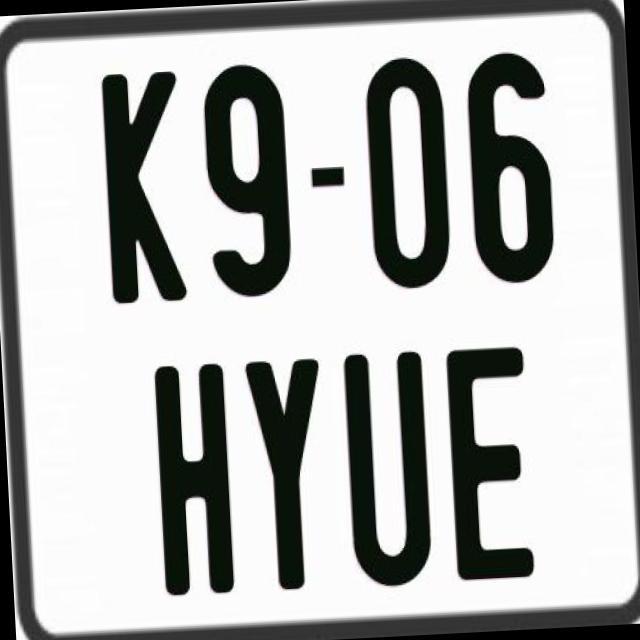0: (363, 54, 453, 290)
6: (462, 51, 558, 286)
9: (198, 59, 294, 297)
E: (446, 348, 540, 580)
H: (152, 362, 232, 602)
K: (99, 69, 192, 307)
U: (343, 348, 438, 589)
Y: (241, 358, 331, 600)
